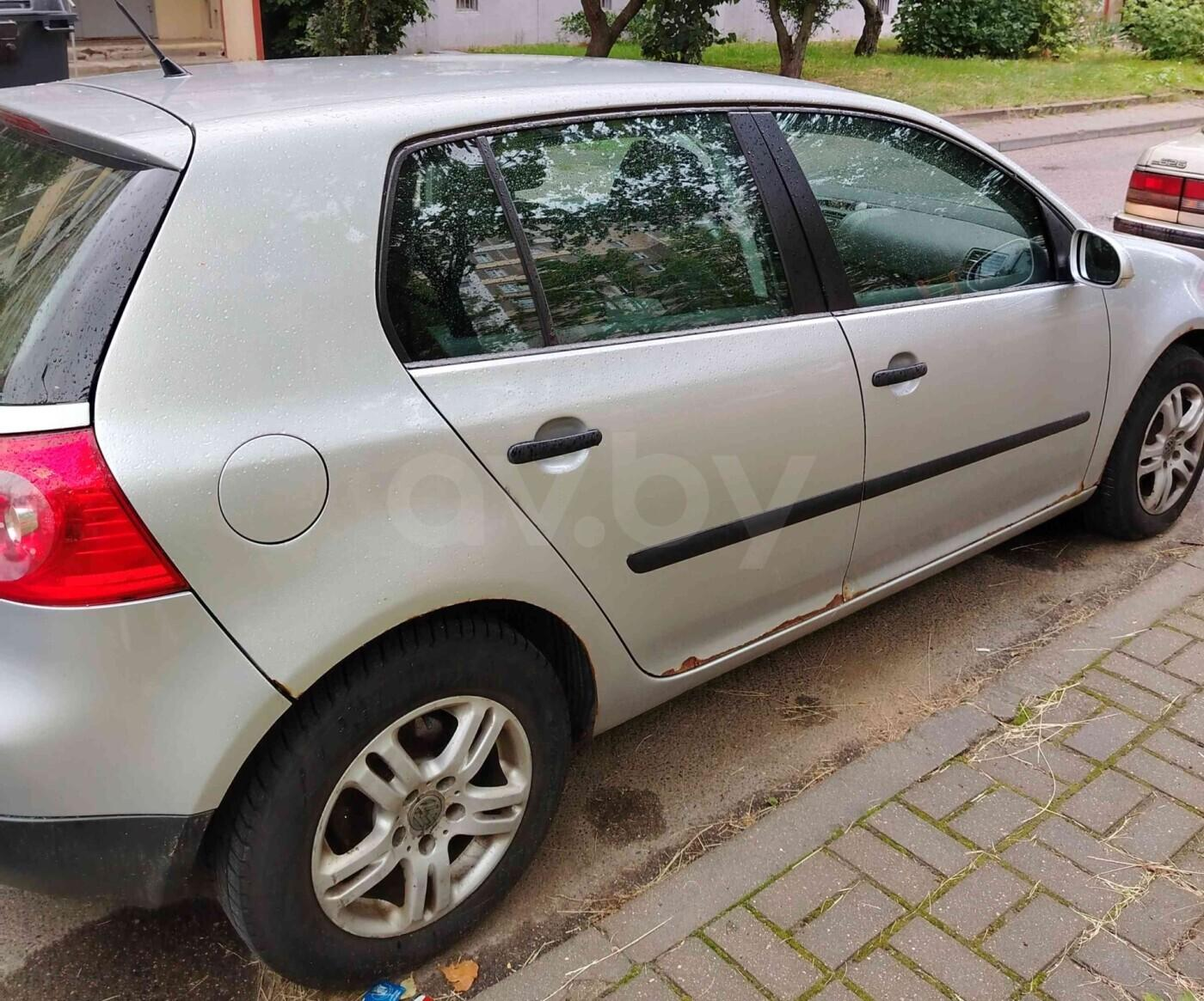Golf_2003-2009: (0, 59, 1204, 987)
